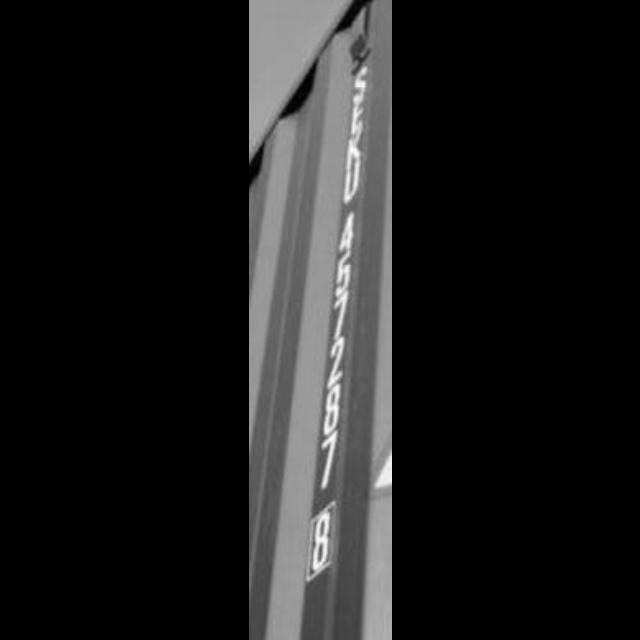2: (316, 338, 356, 392)
4: (329, 207, 366, 259)
5: (324, 250, 362, 296)
7: (312, 428, 342, 496), (318, 292, 354, 342)
8: (302, 504, 343, 578), (312, 380, 348, 436)
d: (334, 148, 366, 202)
e: (338, 96, 374, 138)
k: (333, 130, 379, 164)
s: (348, 64, 372, 104)
